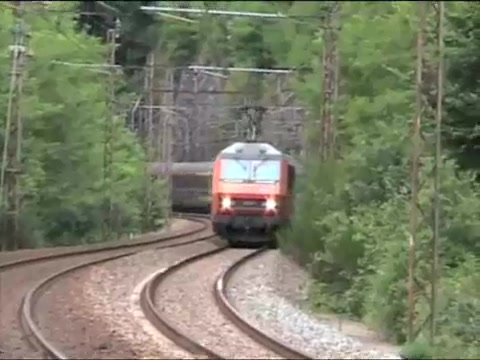train: (172, 141, 297, 248)
